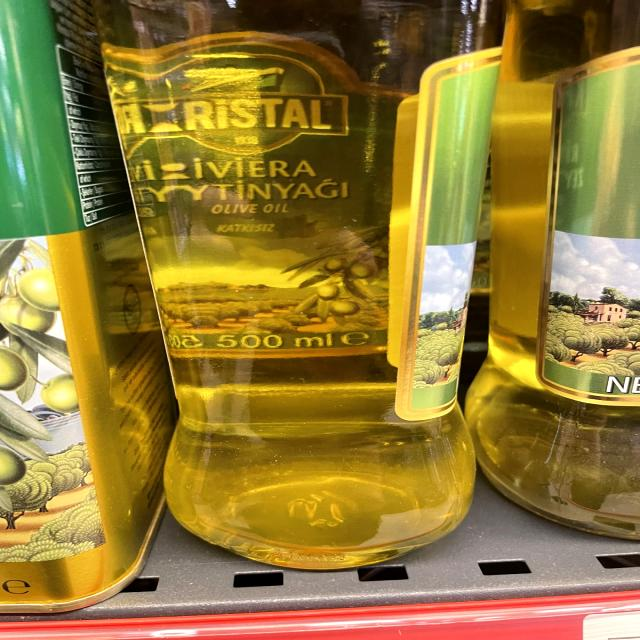olive oil: (103, 0, 489, 570)
